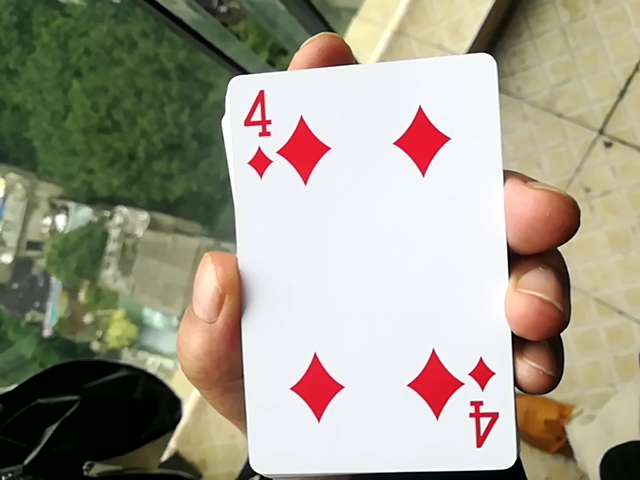fk 4: (219, 34, 504, 479)
